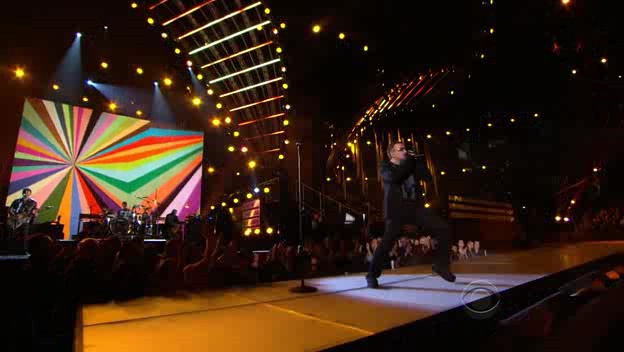person: (377, 139, 434, 240), (374, 139, 431, 240), (380, 139, 437, 240), (377, 136, 434, 237), (377, 142, 434, 243)
target_negative: (221, 112, 356, 282), (167, 81, 339, 168), (375, 75, 485, 159), (315, 251, 563, 257), (491, 292, 617, 298), (365, 345, 417, 347)
